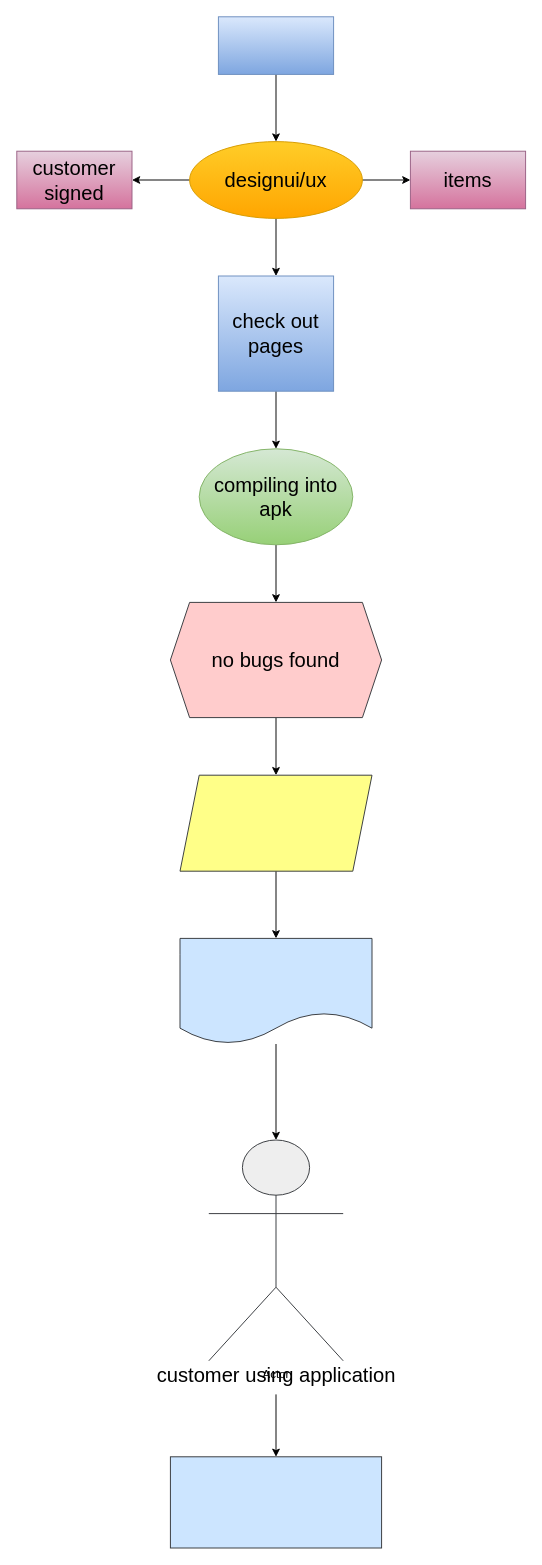
The diagram is 542 pixels wide and 1565 high, and some of its shapes have lost their labels. Each missing label, with the centre of its shape:
"hushhh" goes at pixel 275 45.
"no feedback recieved" goes at pixel 275 1502.
"pushink the apk to cloud or app store" goes at pixel 275 990.
"writing permission for deployment" goes at pixel 275 822.
